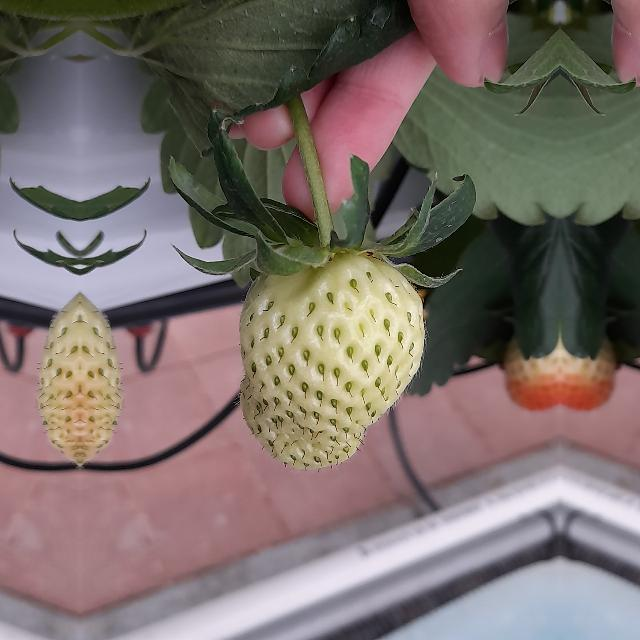Health_25: (238, 254, 424, 468)
